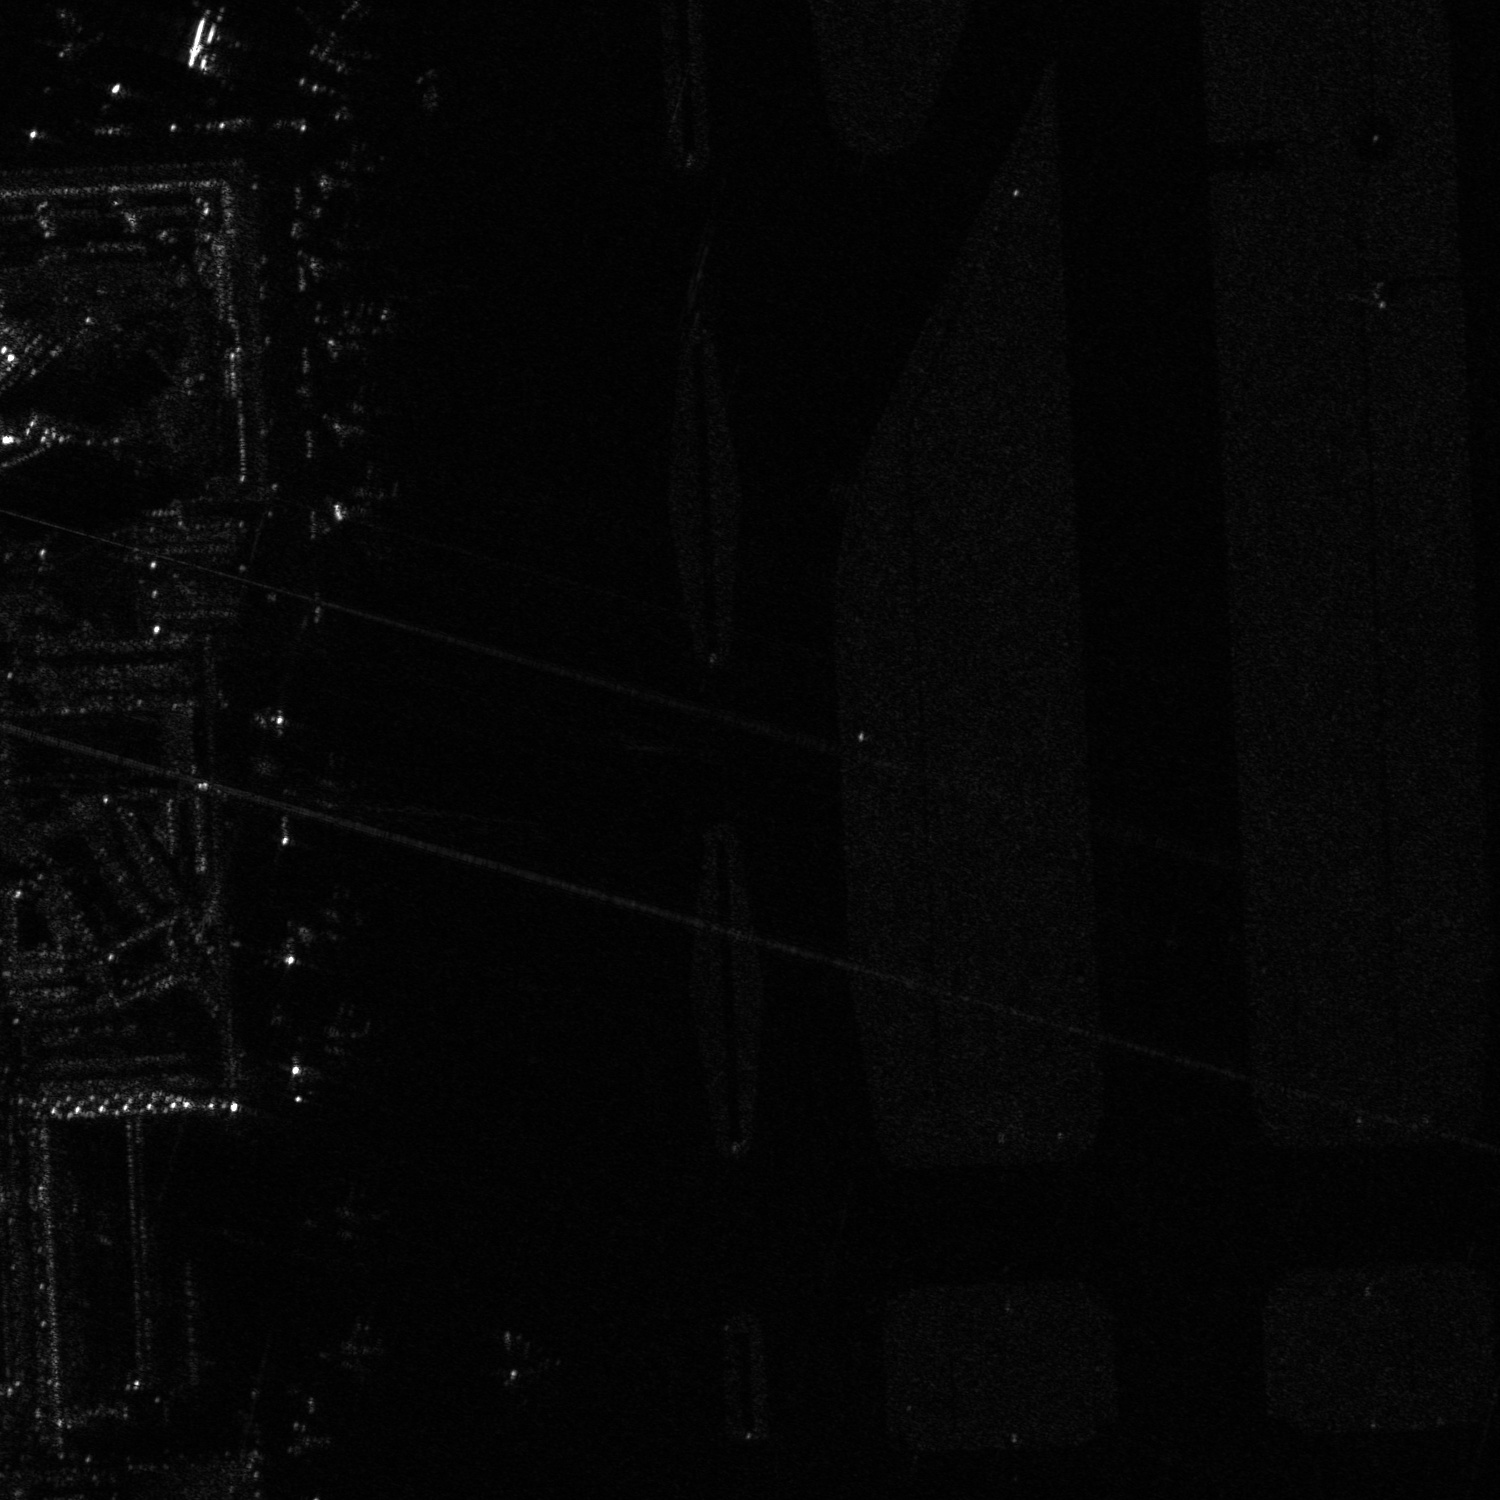A220: (286, 872, 394, 968), (288, 990, 391, 1074), (323, 462, 404, 554), (319, 1304, 407, 1382), (327, 370, 404, 456), (310, 1181, 393, 1260), (323, 290, 401, 371)
Boeing787: (157, 1, 242, 91), (23, 1, 118, 60)
other: (466, 1320, 578, 1391)
